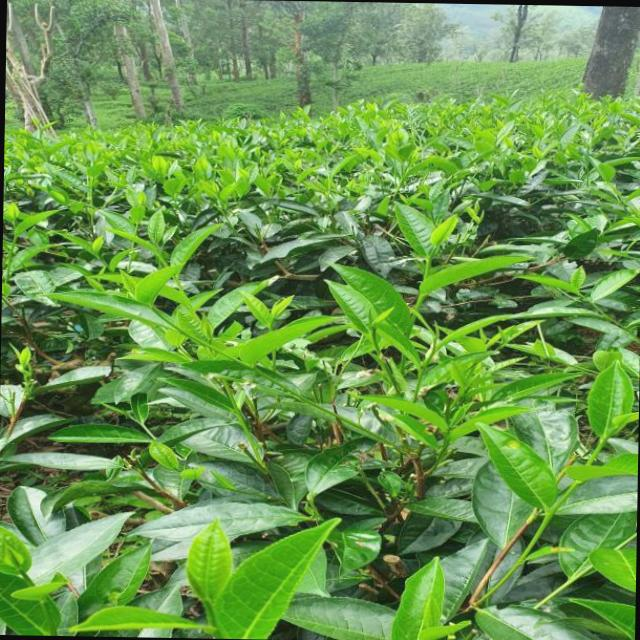Stem: (599, 437, 604, 443), (369, 332, 373, 339), (267, 325, 272, 330), (154, 249, 158, 253), (430, 349, 434, 352)
